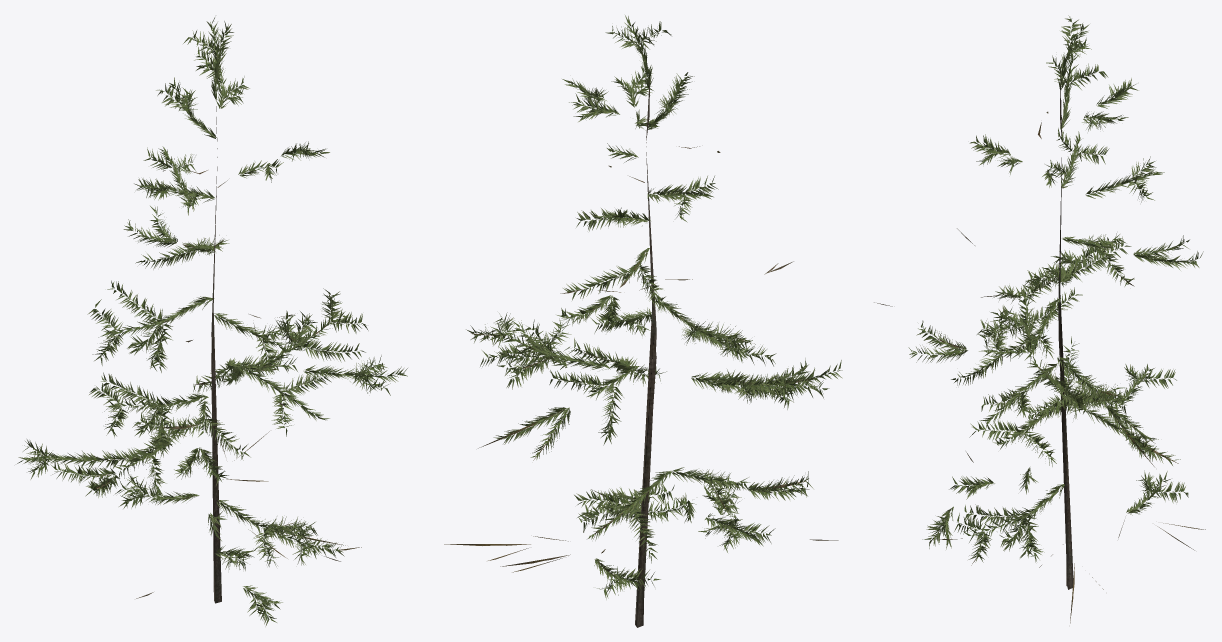
The model's file is fir_sapling.glb.
The picture shows the model from 3 angles, left to right: view 1: azimuth 30°, elevation 25°; view 2: azimuth 150°, elevation 25°; view 3: azimuth 270°, elevation 25°; orthographic projection. The views are drawn at different scales.
Visible parts, largest first — view 1: fir_sapling_a; view 2: fir_sapling_a; view 3: fir_sapling_a.
Boxes of the visible parts, x1,y1,x2,y2 form: fir_sapling_a: (17,17,407,626); fir_sapling_a: (444,15,842,627); fir_sapling_a: (874,15,1205,623).
Size of the model in its own units: 0.7138 by 1.23 by 0.6607.
2 materials, 2 textured.
